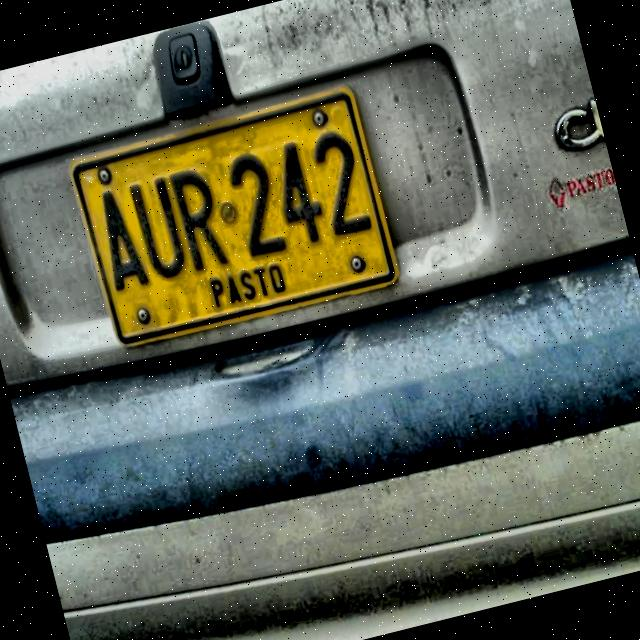2: (307, 123, 377, 240), (225, 147, 292, 260)
4: (268, 137, 333, 250)
A: (88, 186, 155, 292)
R: (167, 171, 233, 274)
U: (121, 173, 192, 282)
